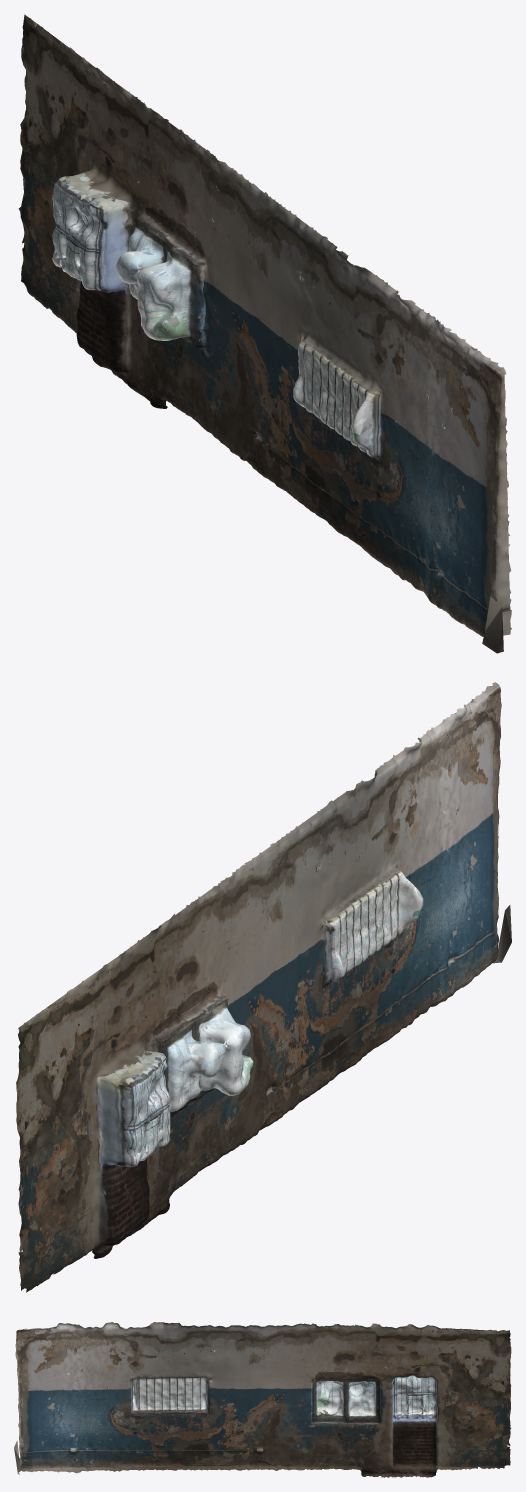
Rendered from ParedÑ01A+.obj.
3 renders of one model, top to bottom at view 1: azimuth 30°, elevation 25°; view 2: azimuth 150°, elevation 25°; view 3: azimuth 270°, elevation 25°, orthographic. The views are drawn at different scales.
Visible parts, largest first — view 1: Group_Global.1; view 2: Group_Global.1; view 3: Group_Global.1.
Boxes of the visible parts, left/top/right/bottom form: Group_Global.1: left=18, top=14, right=511, bottom=653; Group_Global.1: left=16, top=682, right=511, bottom=1292; Group_Global.1: left=14, top=1322, right=511, bottom=1477.
Size of the model in its own units: 2.51 by 11.1 by 32.8.
1 material, 1 textured.
